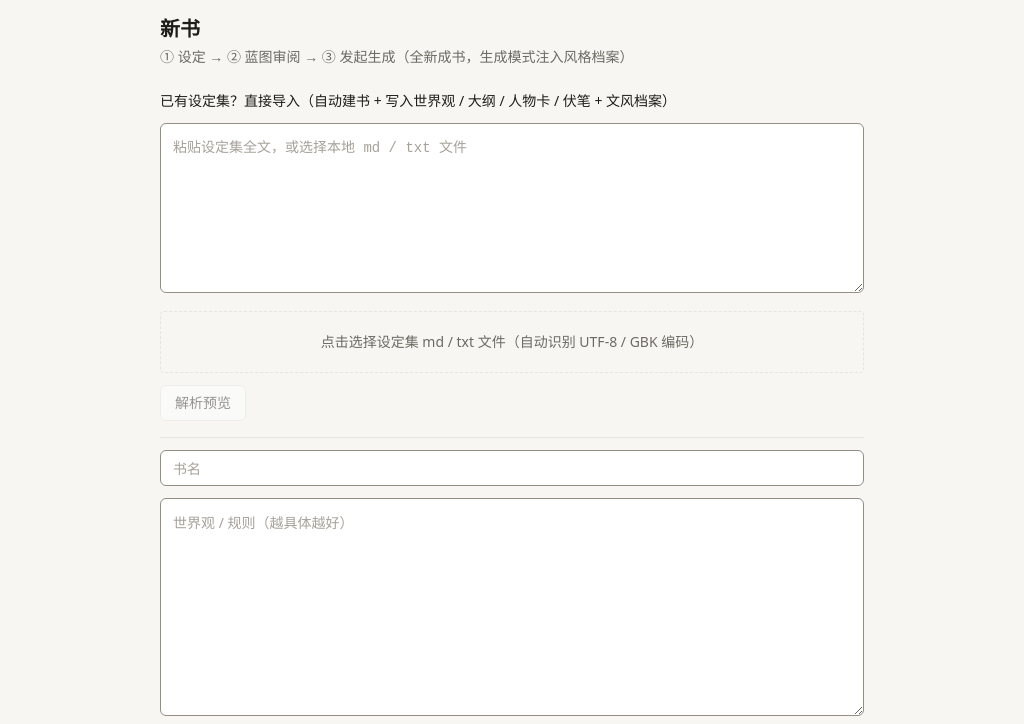
Test: NewBookIdeaPage 入口 B 向导 › 设定集导入（含章级大纲）→ 跳过 LLM 直接进审阅（DEC-2026-1120-04 拍板③）
Expected: the text "已有设定集？直接导入（自动建书 + 写入世界观 / 大纲 / 人物卡 / 伏笔 + 文风档案）" is shown, [160,91,676,110]
Type "# 《导入示例书》设定集" into the text box labelled "设定集全文".
click(512, 208); type("# 《导入示例书》设定集")  # box [160,123,864,293]
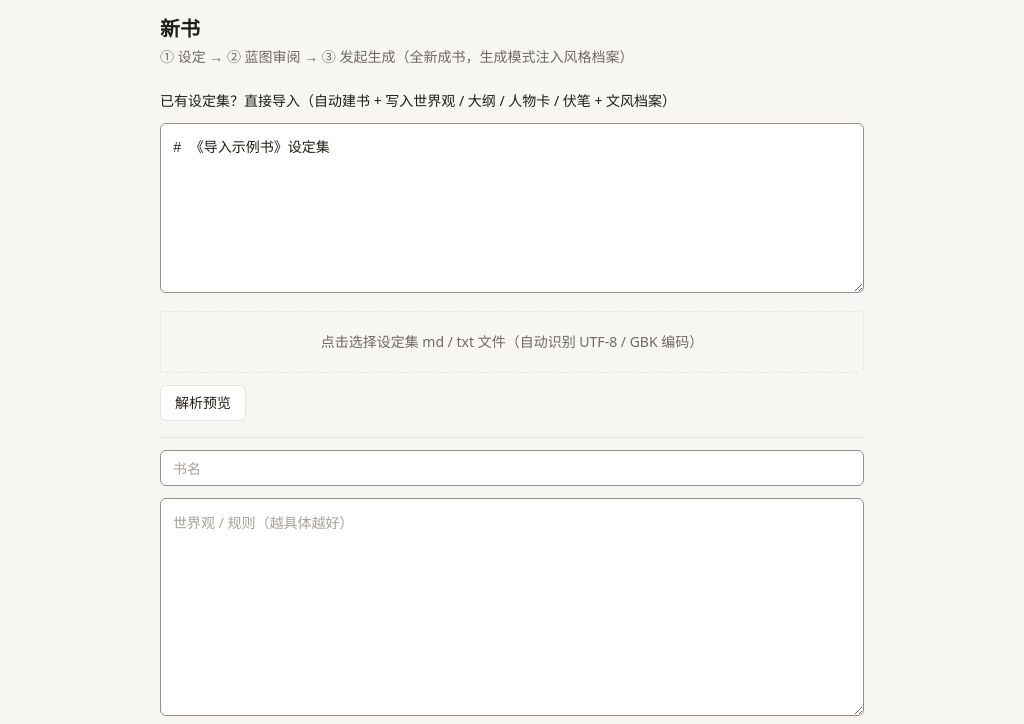
Click the button "解析预览".
click(203, 403)  # box [160,385,246,421]
(page scrolled)
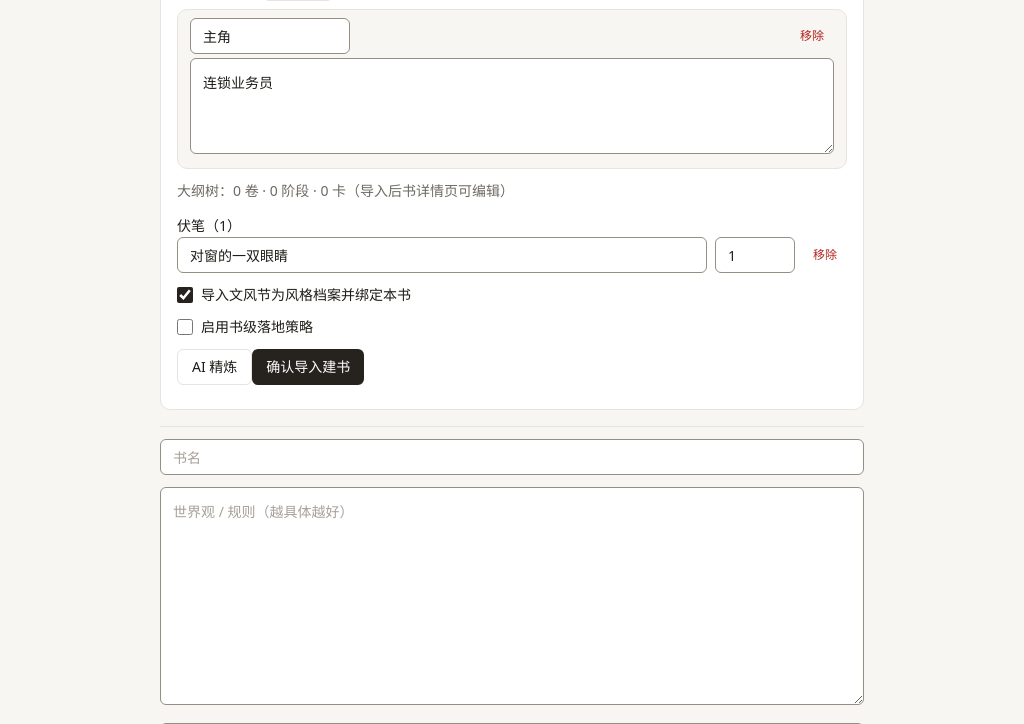
Now the button "确认导入建书" is shown
Click the button "确认导入建书".
click(308, 367)  # box [252,349,364,385]
(page scrolled)
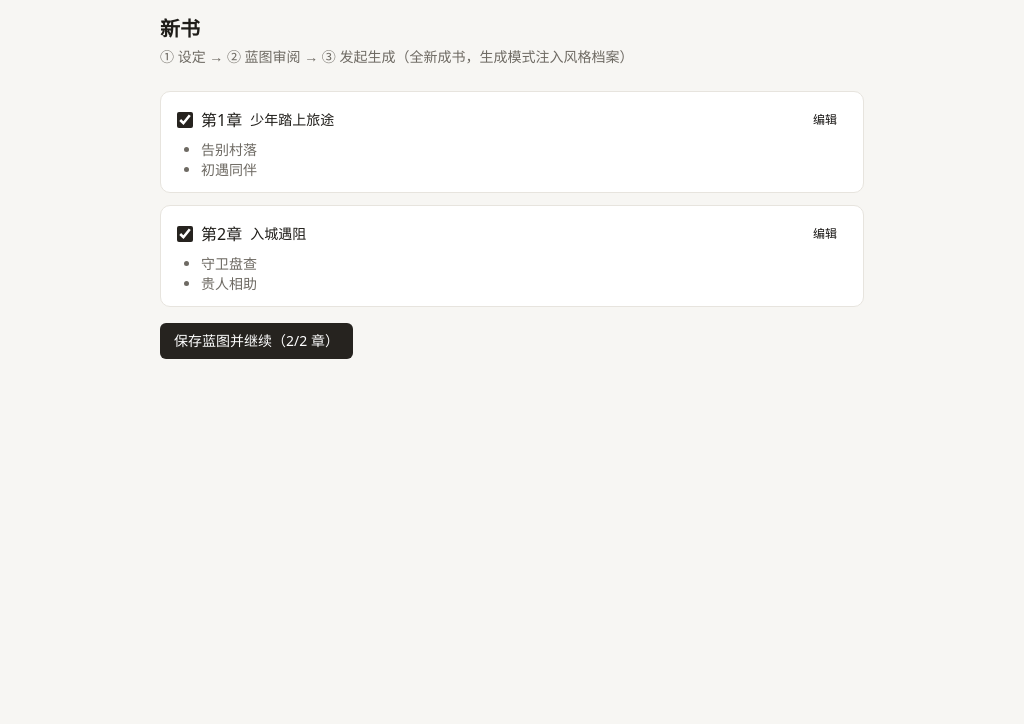
Now the text "少年踏上旅途" is shown, box [250,110,334,130]
Now the text "第1章" is shown, box [201,108,242,132]
Now the text "第2章" is shown, box [201,222,242,246]
